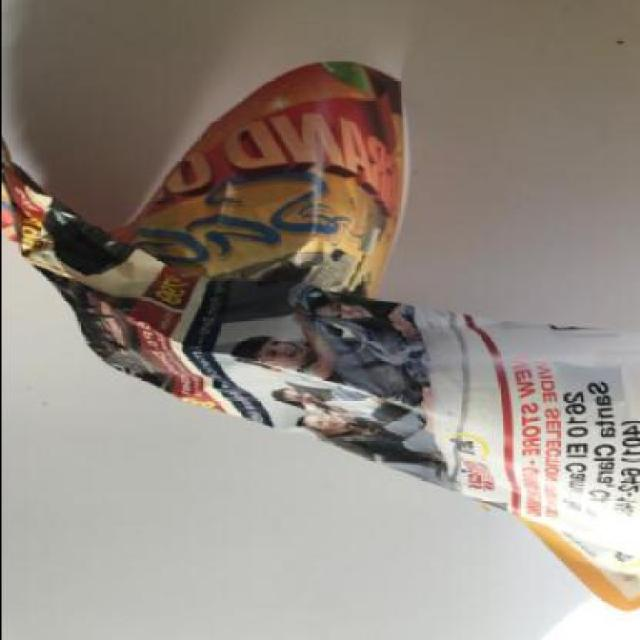paper: (1, 62, 638, 616)
